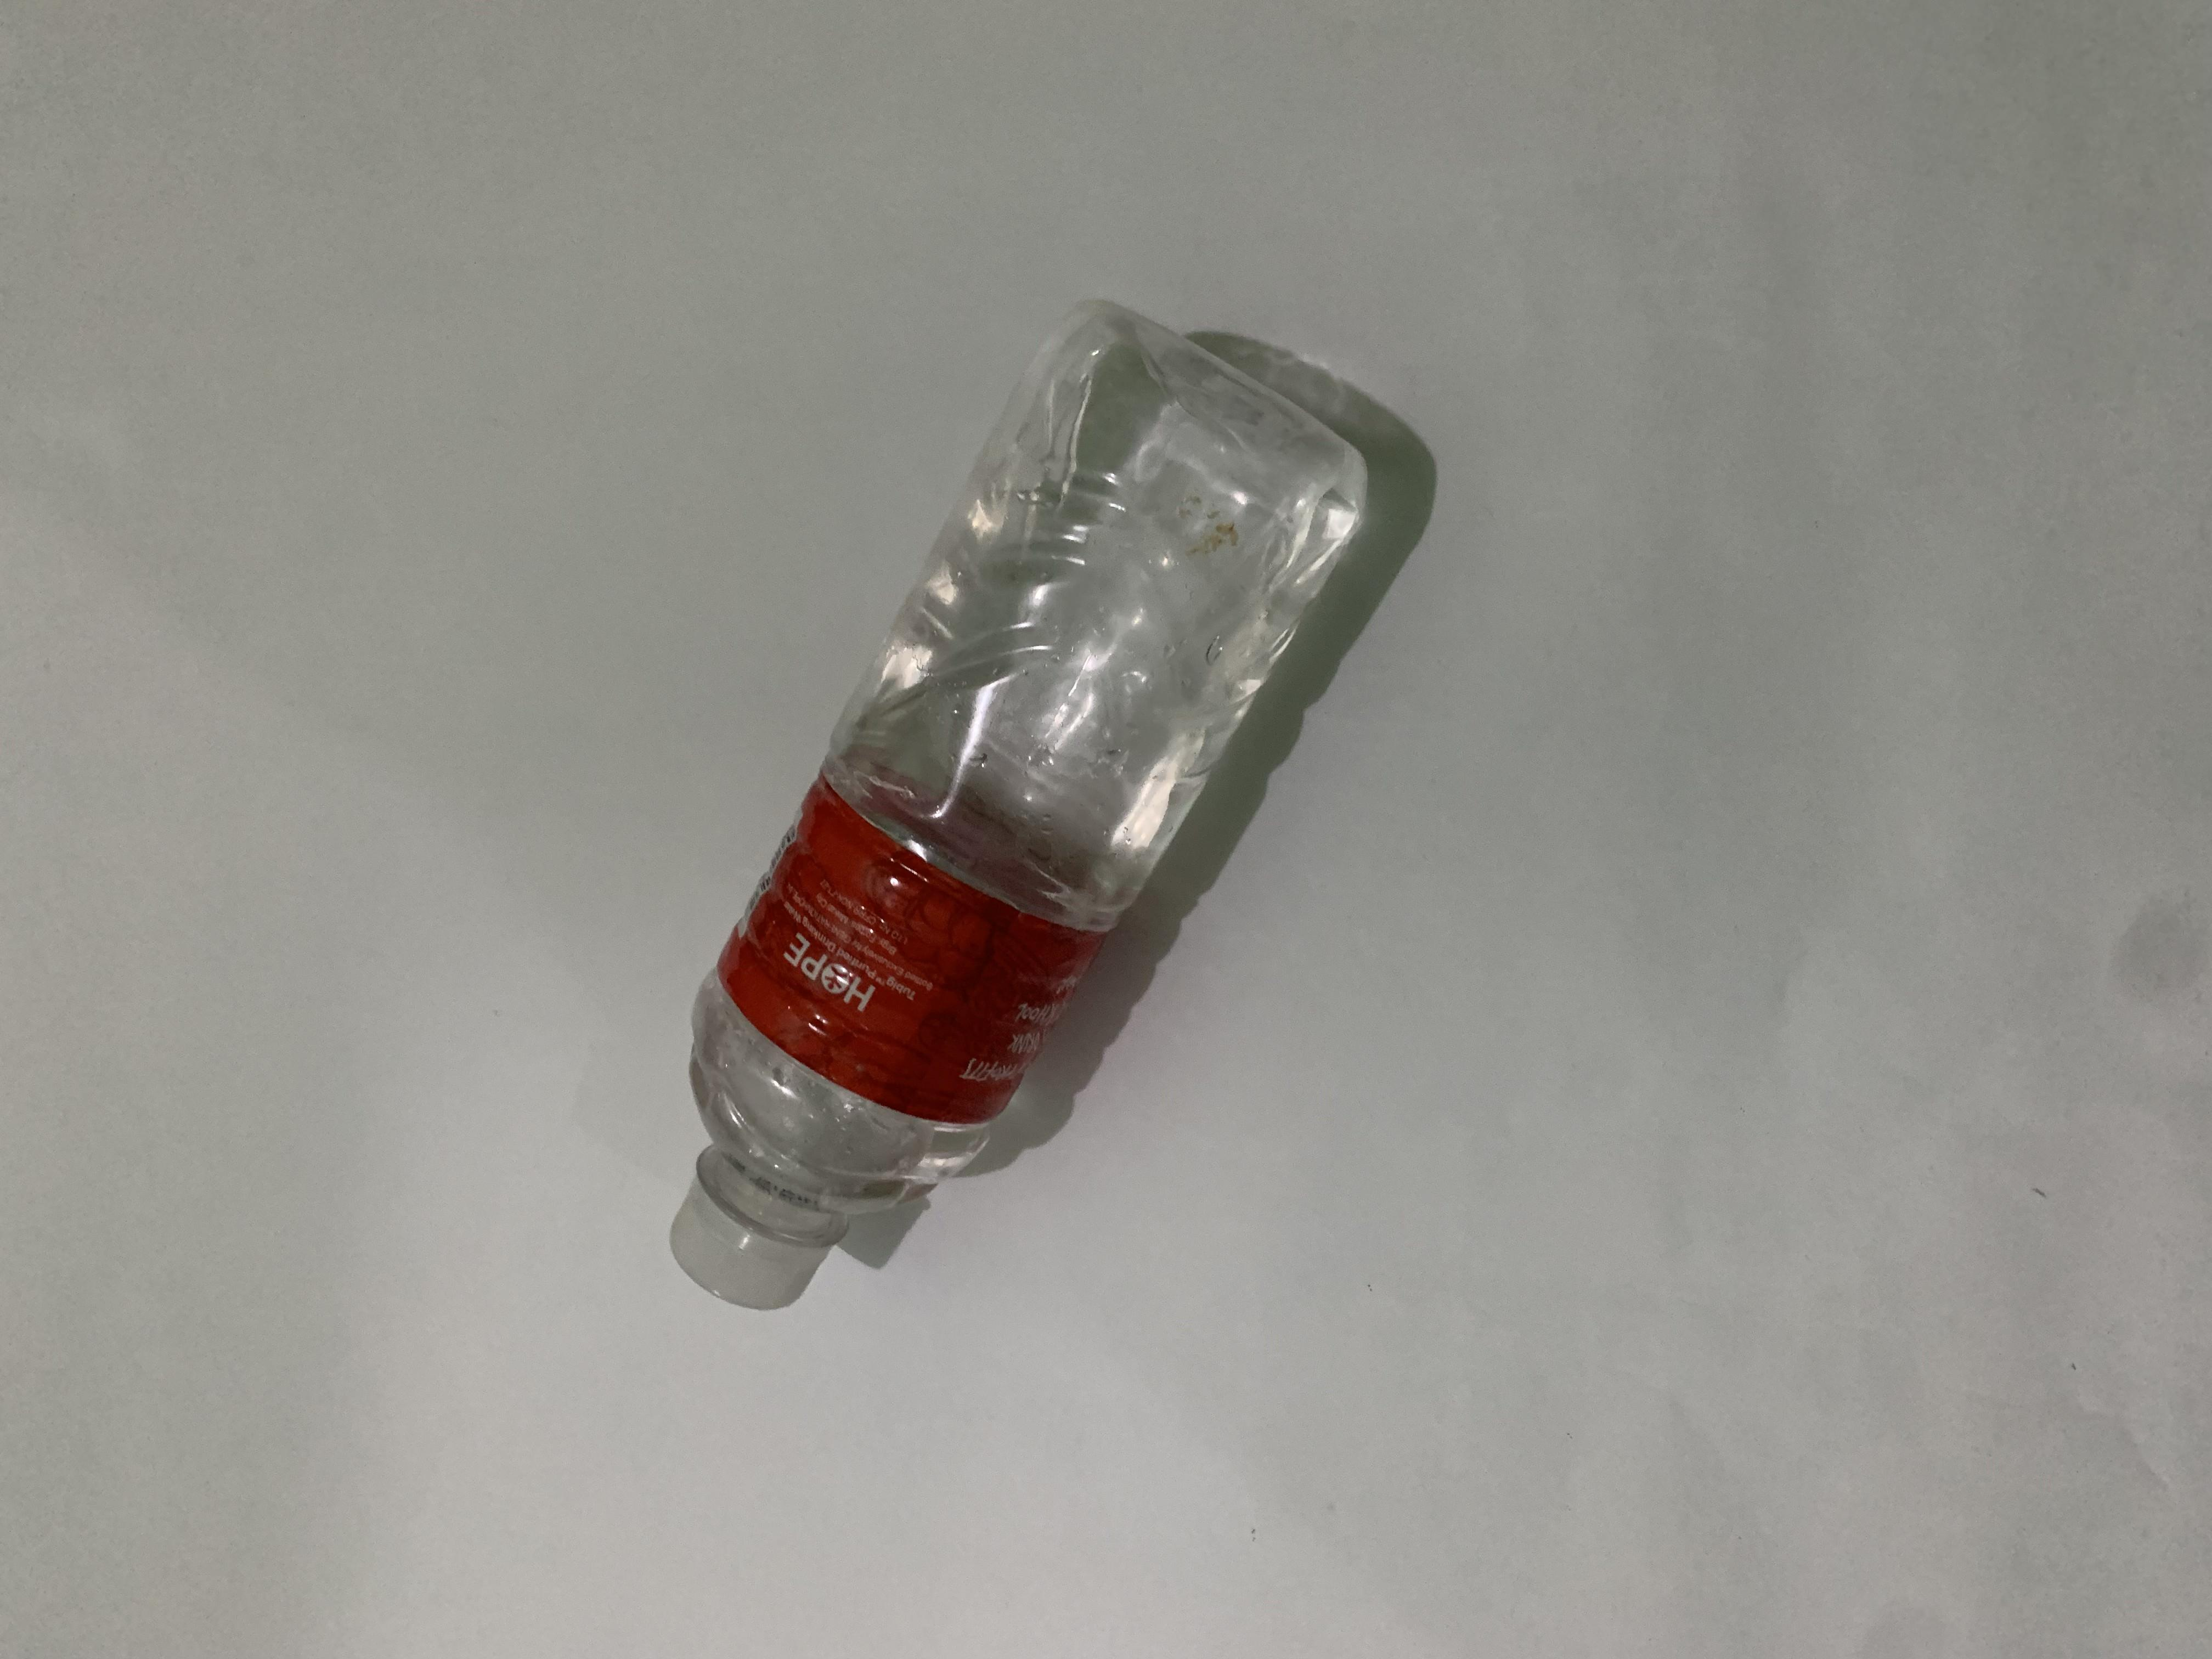bottle: (0, 490, 702, 1040)
